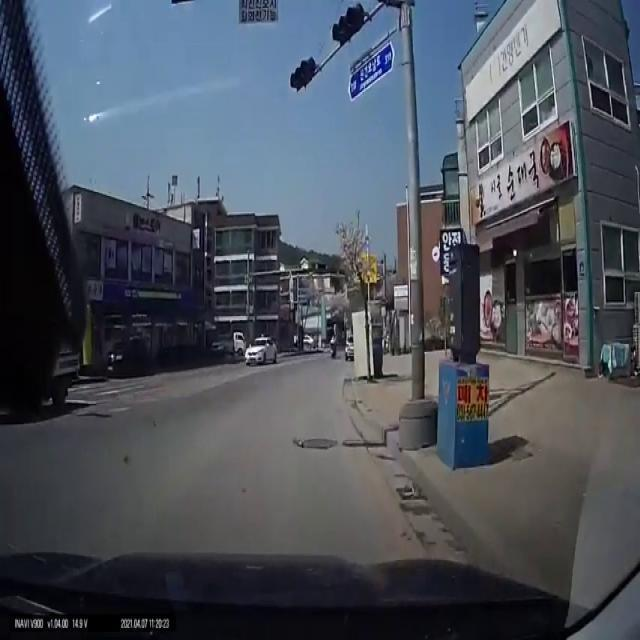pothole: (298, 436, 339, 452)
